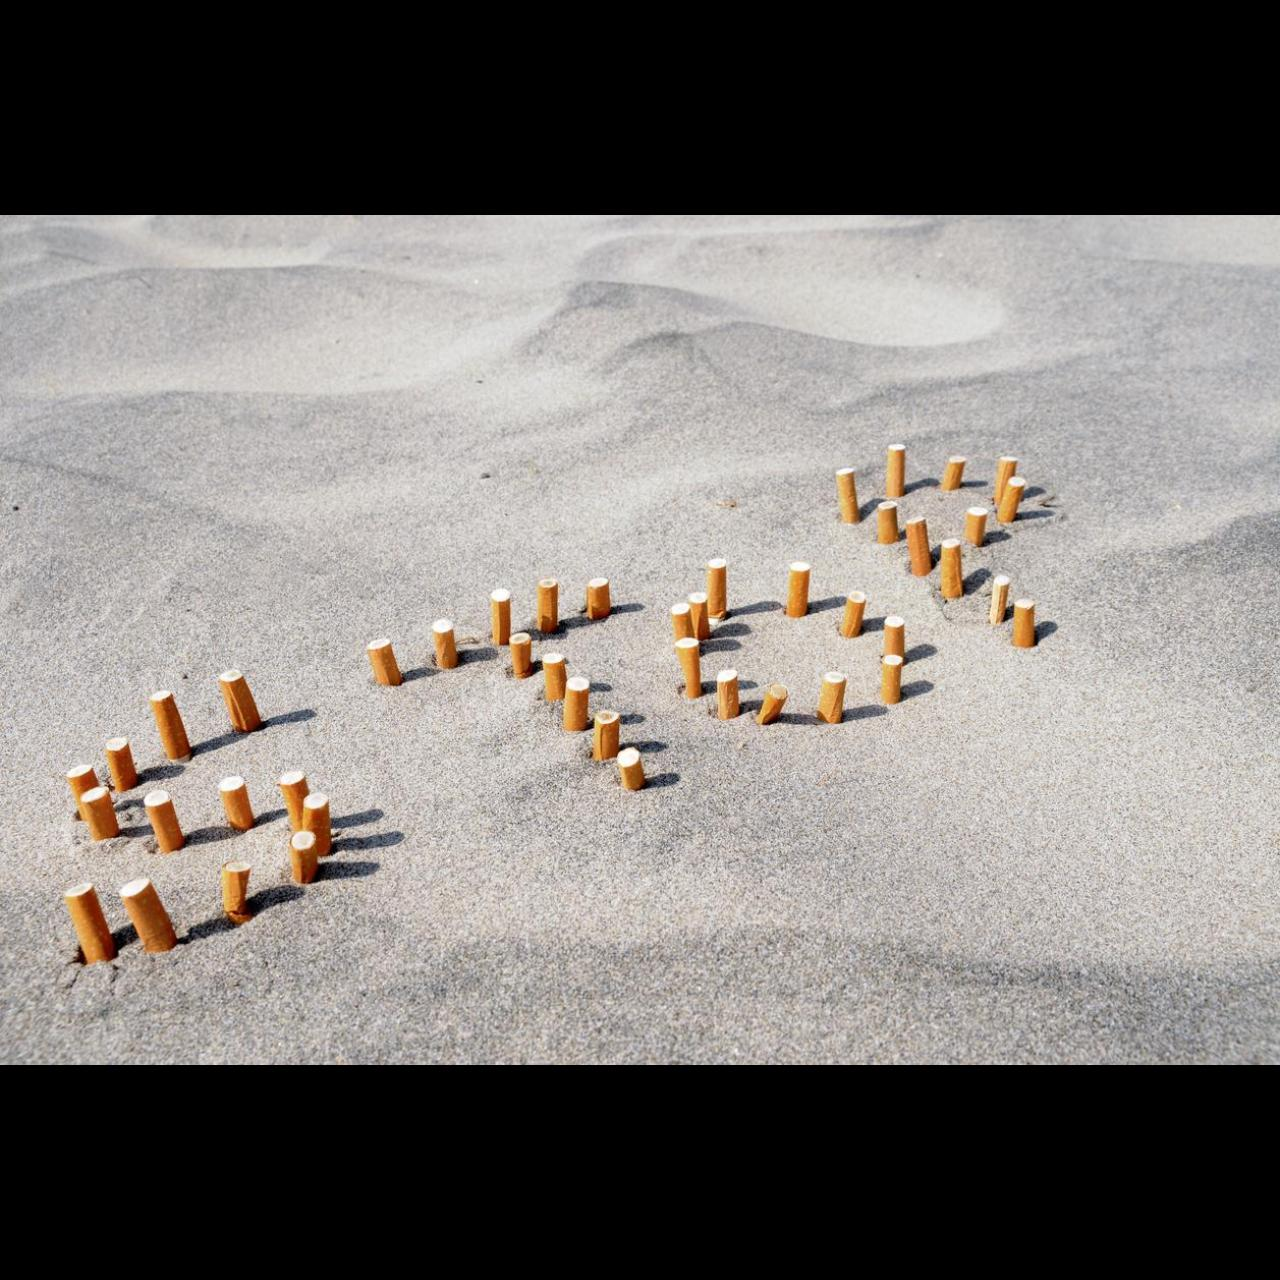cigarettes_butts: (120, 878, 178, 953), (63, 883, 115, 966), (149, 689, 192, 763), (217, 670, 261, 733), (144, 789, 184, 855), (81, 787, 120, 842), (66, 764, 101, 822), (218, 776, 254, 830), (223, 860, 253, 924), (281, 770, 312, 832), (104, 736, 137, 791), (304, 792, 332, 856), (367, 638, 402, 686), (675, 638, 702, 699), (905, 517, 932, 578), (290, 830, 319, 884), (817, 672, 846, 724), (941, 539, 964, 602), (563, 678, 588, 731), (998, 476, 1027, 523), (593, 709, 620, 760), (787, 561, 810, 618), (433, 619, 458, 669), (757, 683, 789, 724), (836, 469, 859, 524), (994, 456, 1019, 505), (707, 558, 727, 618), (842, 591, 866, 639), (716, 670, 740, 721), (880, 654, 904, 704), (618, 748, 645, 791), (543, 654, 566, 702), (1013, 598, 1035, 648), (538, 577, 558, 632), (886, 443, 906, 498), (509, 633, 532, 679), (491, 588, 510, 645), (689, 592, 710, 641), (989, 576, 1010, 625), (884, 615, 905, 663), (670, 602, 695, 644), (586, 578, 610, 619), (965, 508, 988, 547), (877, 501, 898, 544), (941, 456, 967, 491)
